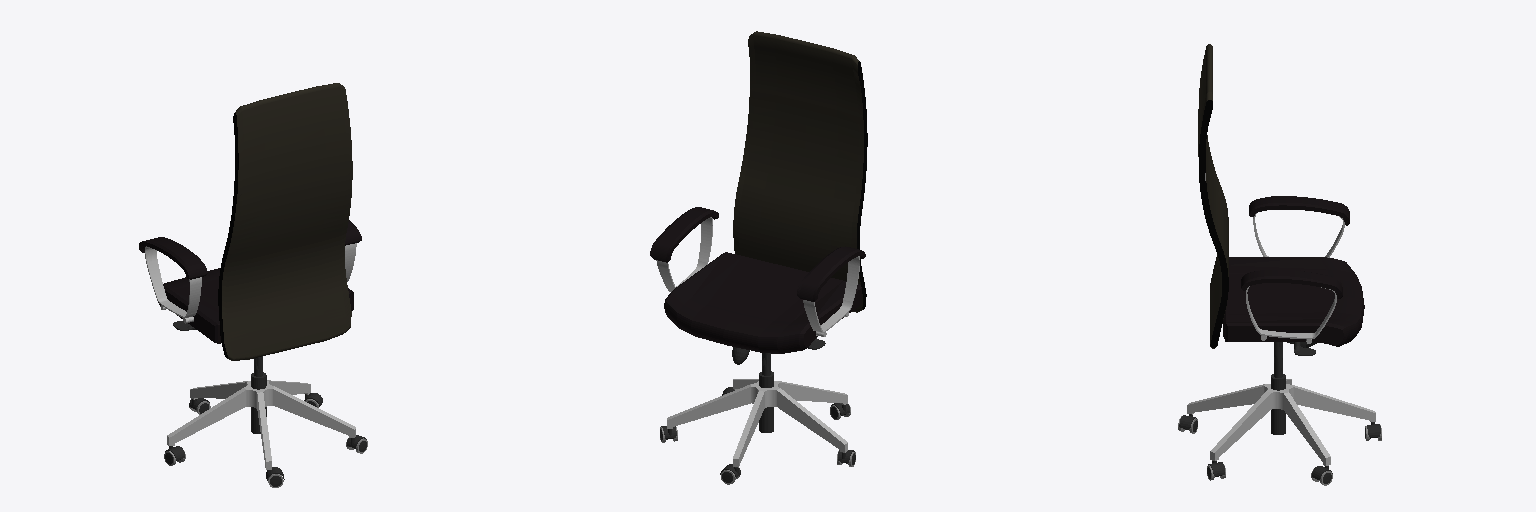
The picture shows the model from 3 angles: view 1: azimuth 30°, elevation 25°; view 2: azimuth 150°, elevation 25°; view 3: azimuth 270°, elevation 25°; orthographic projection.
Parts seen in each view (by area): view 1: Mesh1 Group1 Model, Mesh3 Group3 Model, Mesh6 Group6 Model, Mesh12 Group10 Armrest2 Model, Mesh13 Group11 Armrest2 Model, Mesh2 Group2 Model; view 2: Mesh1 Group1 Model, Mesh6 Group6 Model, Mesh3 Group3 Model, Mesh9 Group9 Armrest1 Model, Mesh13 Group11 Armrest2 Model, Mesh12 Group10 Armrest2 Model, Mesh8 Group8 Armrest1 Model, Mesh2 Group2 Model; view 3: Mesh6 Group6 Model, Mesh3 Group3 Model, Mesh1 Group1 Model, Mesh13 Group11 Armrest2 Model, Mesh9 Group9 Armrest1 Model, Mesh2 Group2 Model, Mesh8 Group8 Armrest1 Model.
Boxes of the visible parts, x1,y1,x2,y2 form: Mesh1 Group1 Model: [218, 83, 352, 360]; Mesh3 Group3 Model: [167, 380, 355, 469]; Mesh6 Group6 Model: [158, 268, 353, 343]; Mesh12 Group10 Armrest2 Model: [145, 246, 201, 317]; Mesh13 Group11 Armrest2 Model: [139, 237, 207, 279]; Mesh2 Group2 Model: [251, 356, 266, 433]; Mesh1 Group1 Model: [733, 31, 867, 312]; Mesh6 Group6 Model: [664, 252, 861, 353]; Mesh3 Group3 Model: [667, 379, 847, 467]; Mesh9 Group9 Armrest1 Model: [650, 207, 718, 262]; Mesh13 Group11 Armrest2 Model: [797, 246, 865, 301]; Mesh12 Group10 Armrest2 Model: [803, 256, 859, 332]; Mesh8 Group8 Armrest1 Model: [656, 217, 712, 291]; Mesh2 Group2 Model: [759, 353, 773, 432]; Mesh6 Group6 Model: [1223, 257, 1364, 346]; Mesh3 Group3 Model: [1187, 379, 1375, 465]; Mesh1 Group1 Model: [1198, 44, 1228, 348]; Mesh13 Group11 Armrest2 Model: [1249, 196, 1349, 225]; Mesh9 Group9 Armrest1 Model: [1241, 270, 1342, 298]; Mesh2 Group2 Model: [1271, 342, 1285, 434]; Mesh8 Group8 Armrest1 Model: [1246, 286, 1336, 338].
Size of the model in its own units: 0.4459 by 0.92 by 0.4497.